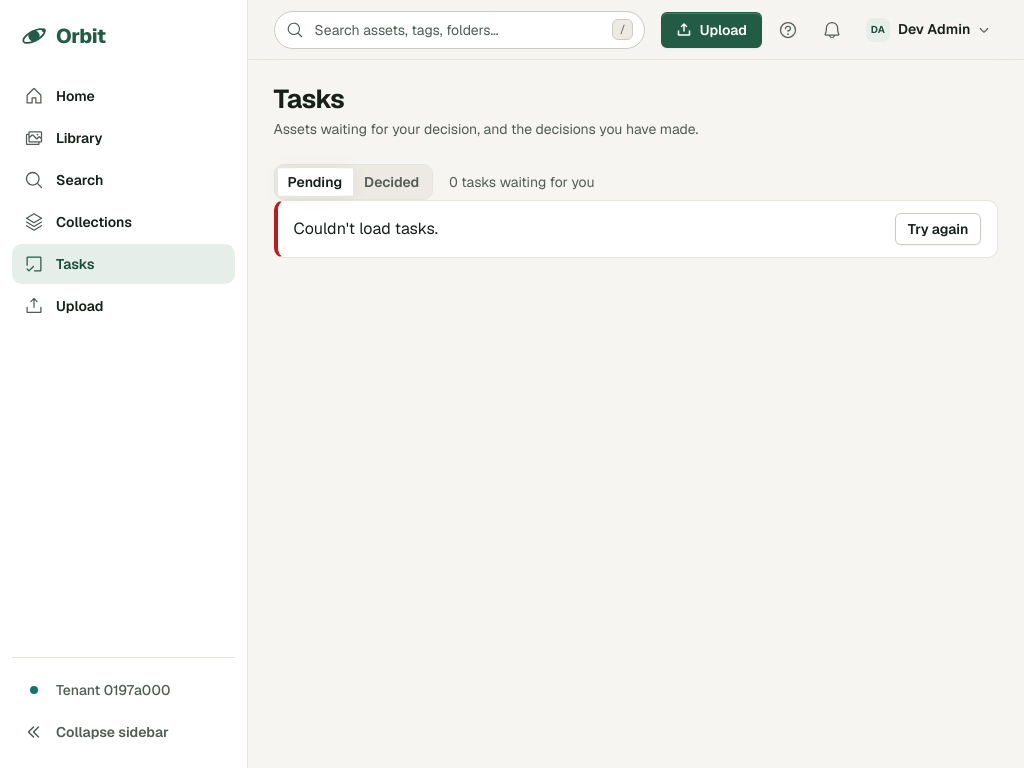
Test: Tasks inbox - pending › shows an error note with a retry that fetches again
The width and height of the screenshot is (1024, 768).
Expected: the message shows "Couldn't load tasks.", [294,218,438,239]
Click the button "Try again": click(938, 229) [895,213,981,245]
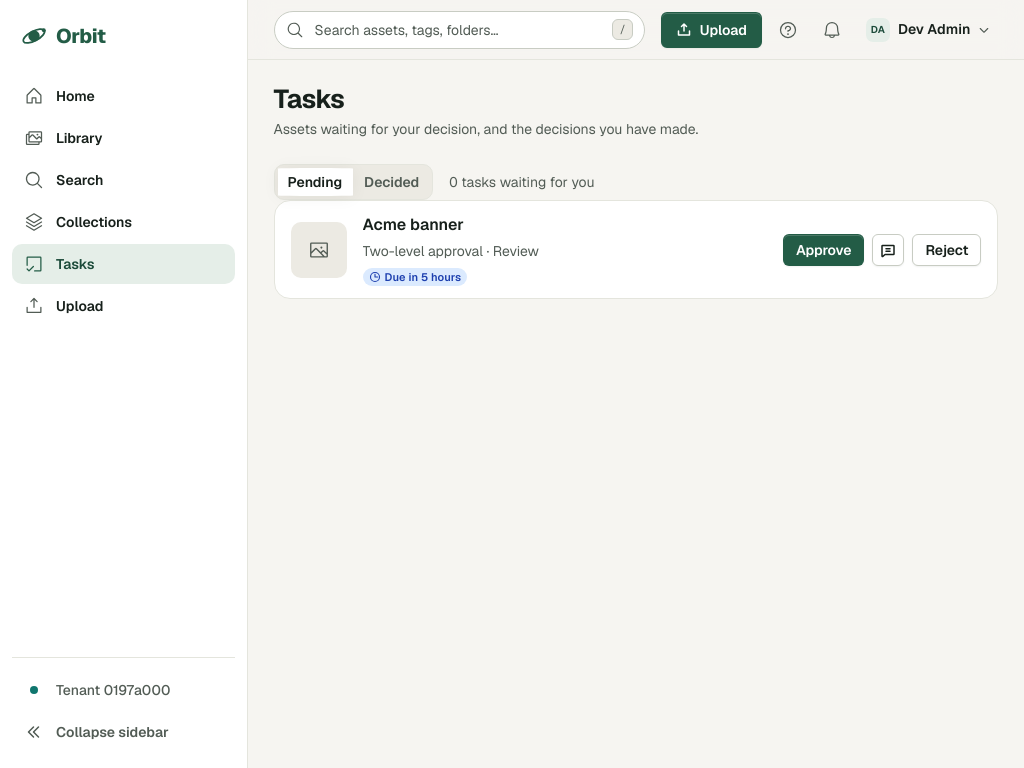
Result: the link "Acme banner" is shown at [363,214,464,235]
